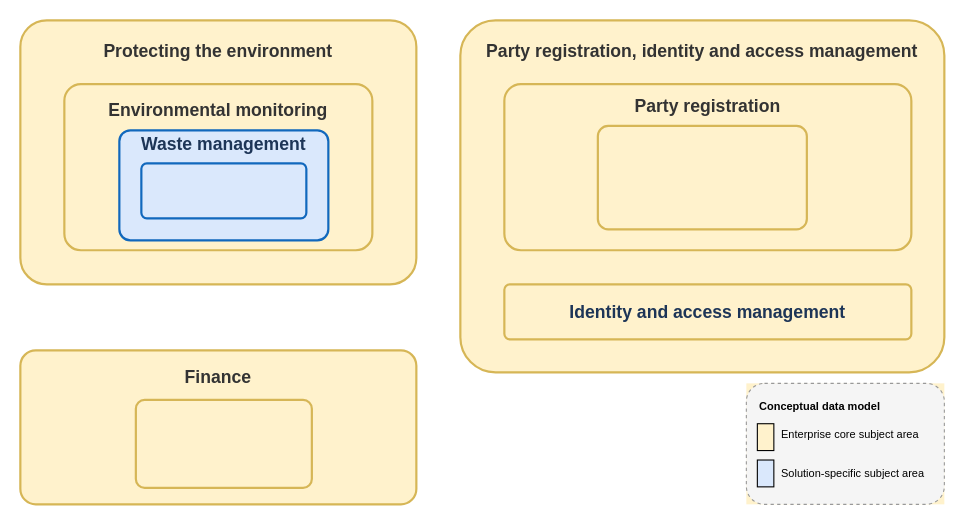
Some shapes in this 964 by 524 pixel diagram are drawn without their labels. Each missing label, with the centre of its shape:
"Financial operations" goes at pixel 223 443.
"Packaging waste" goes at pixel 223 190.
"Producer registration" goes at pixel 701 177.
